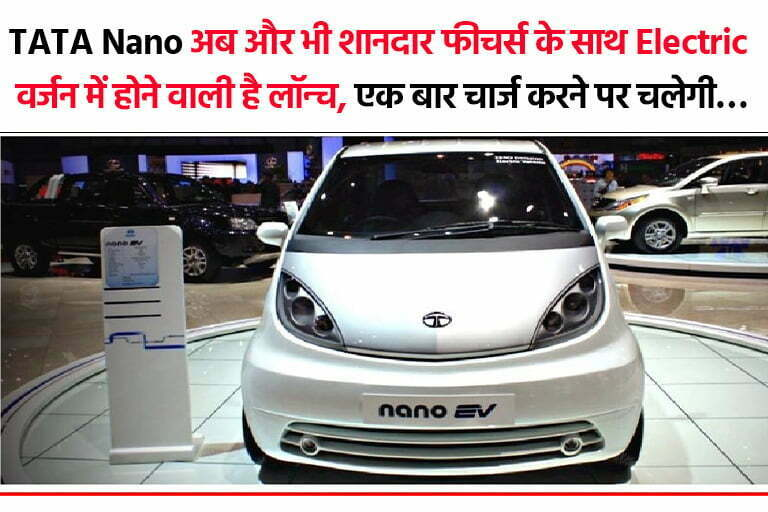Nano: (238, 135, 645, 480)
